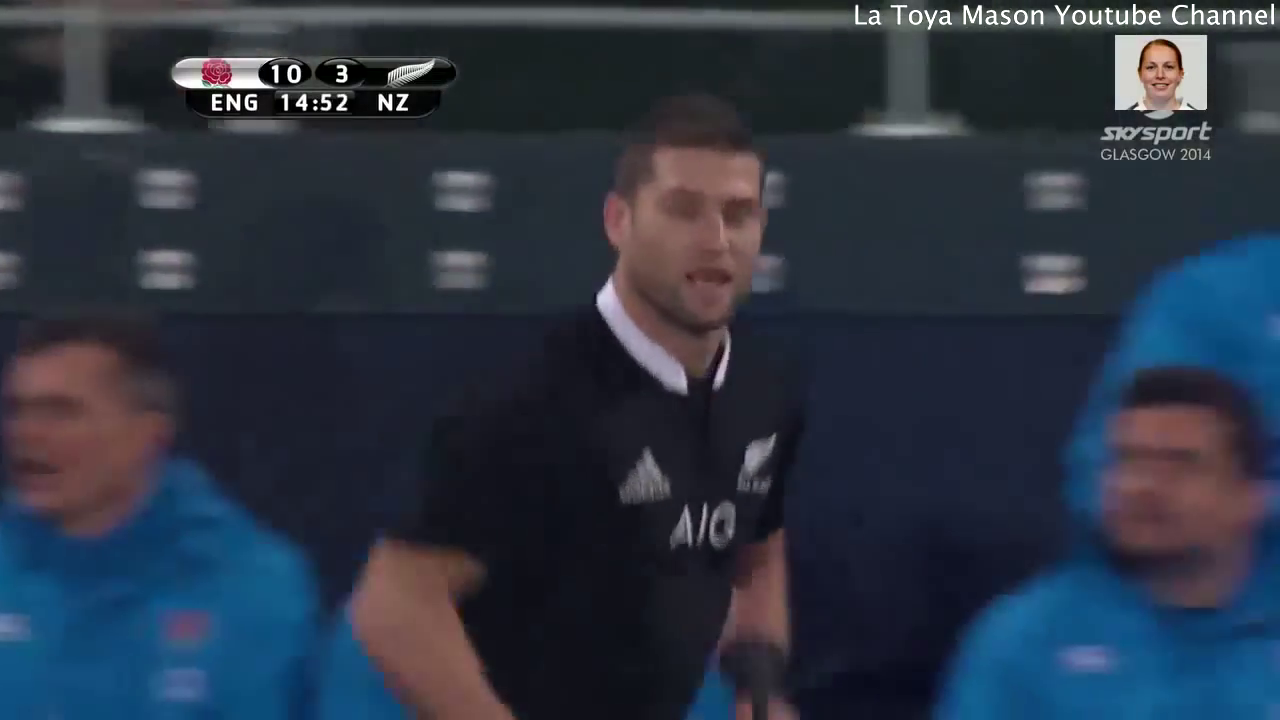player: (328, 83, 825, 720)
